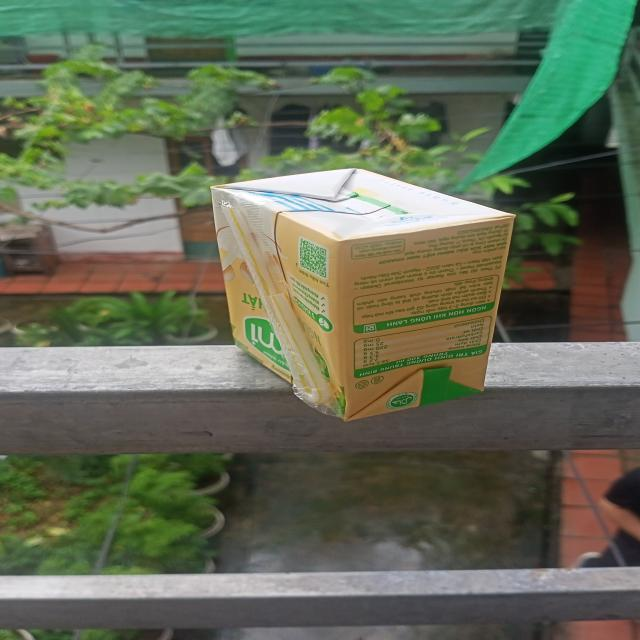Fami: (215, 167, 532, 424)
